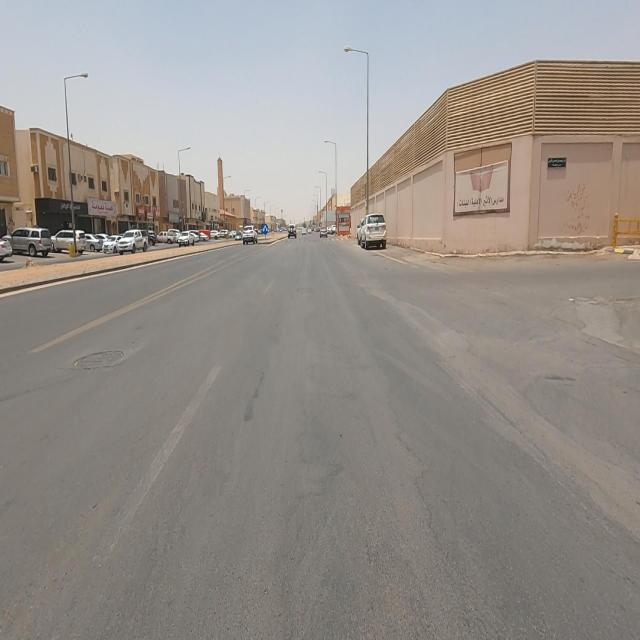Graffiti: (562, 183, 590, 236)
